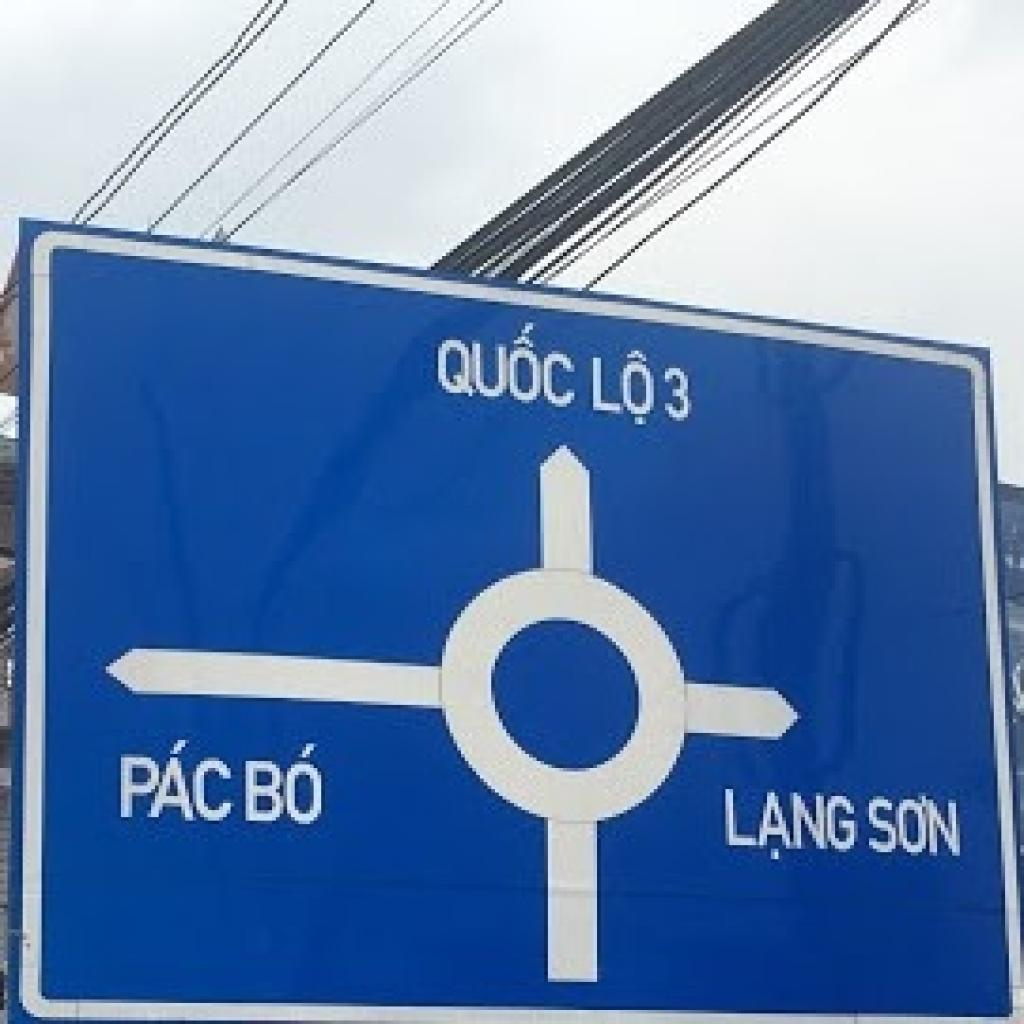text: (431, 316, 578, 417), (722, 786, 862, 873), (114, 733, 234, 828), (238, 733, 329, 838), (590, 344, 658, 428), (662, 361, 696, 428)
